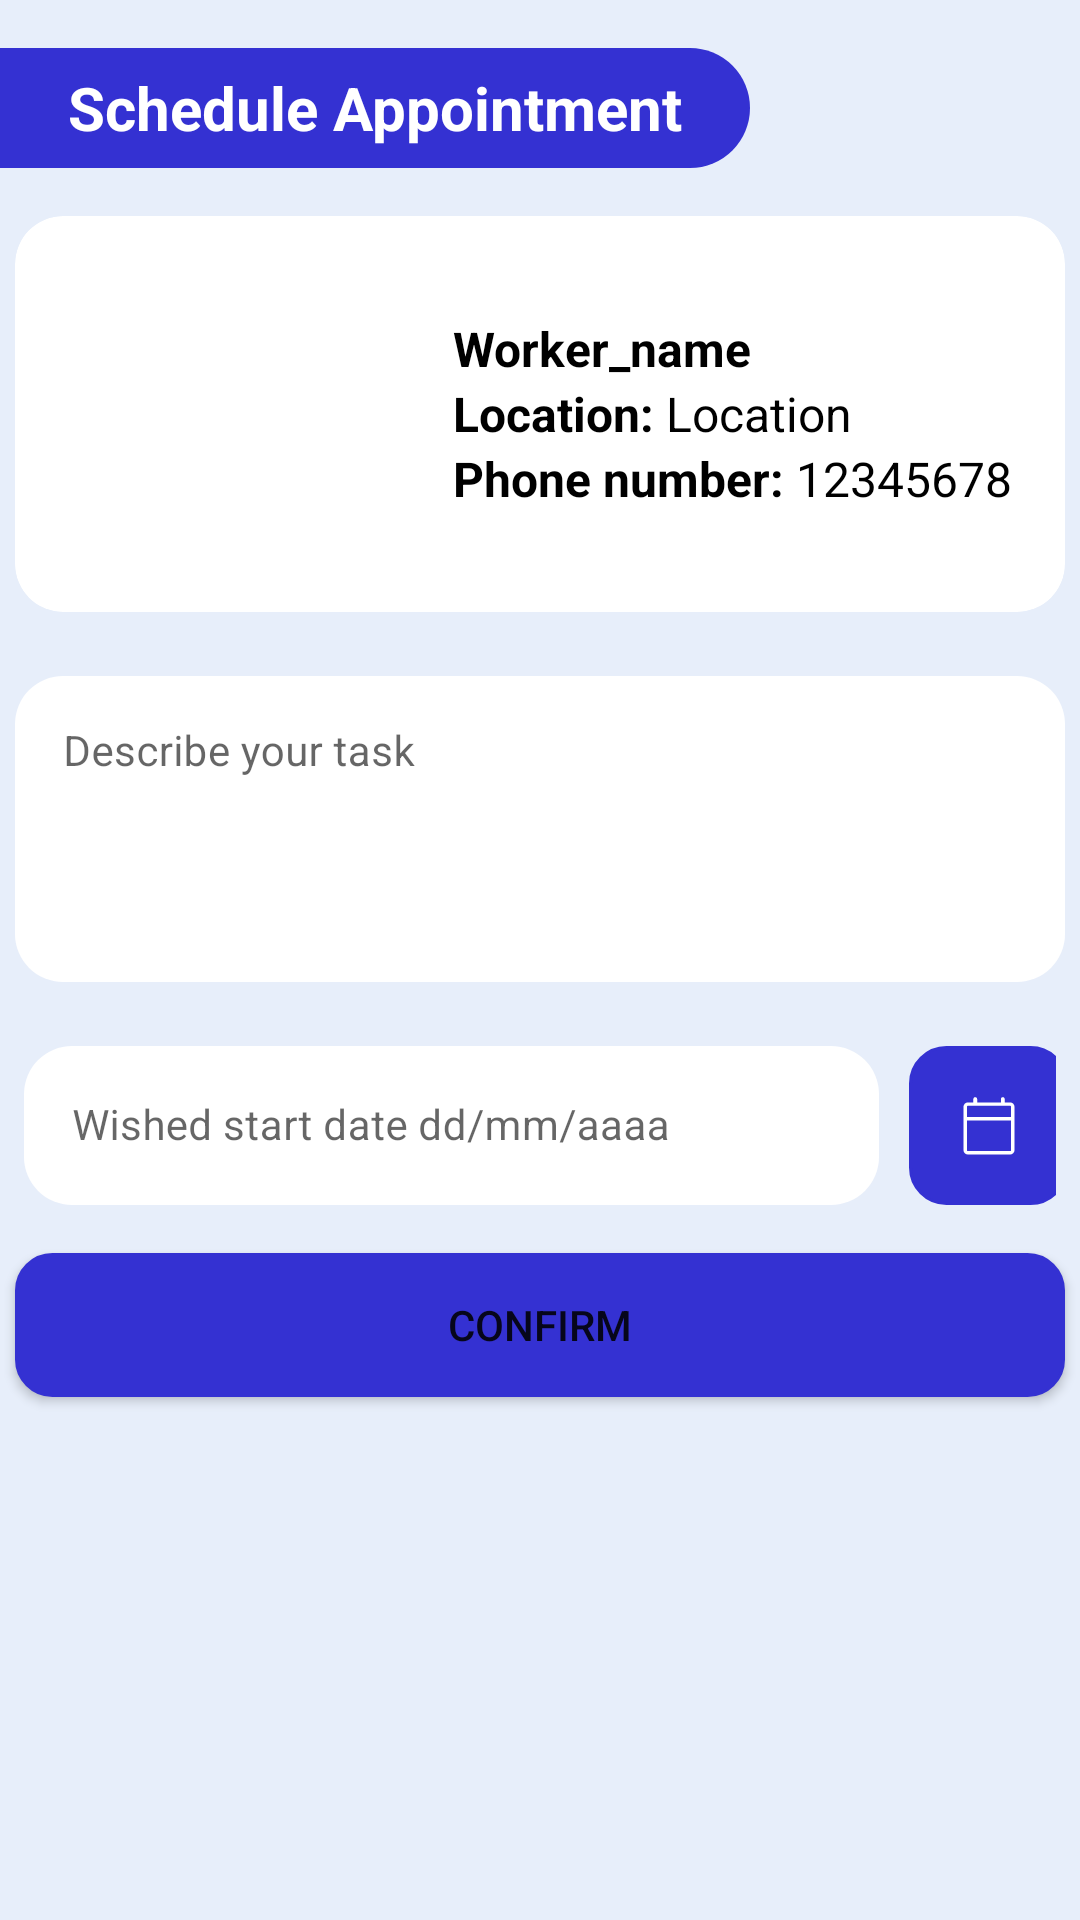

Icons on this 1080px×1920px Android screen, each with the point to tap as [x,y]:
Set date: [982,1125]
